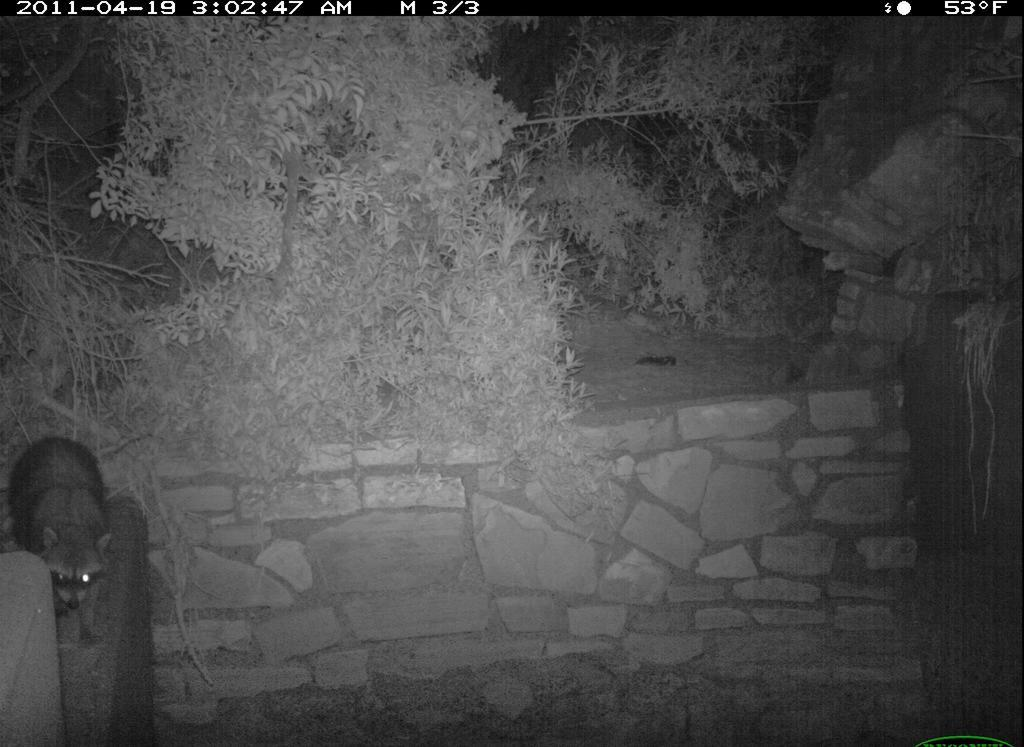raccoon: (2, 433, 121, 632)
